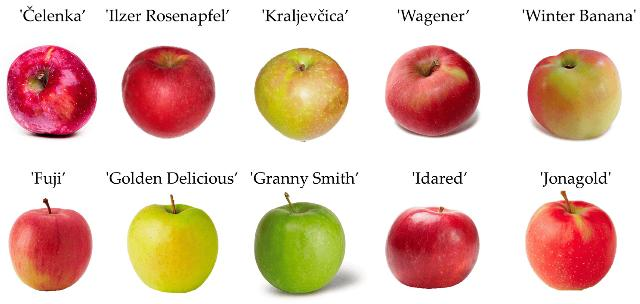green apple: (255, 194, 346, 295), (127, 196, 219, 294)
red apple: (526, 192, 618, 292), (255, 48, 349, 143), (122, 47, 216, 140), (386, 46, 481, 138), (528, 49, 622, 141), (7, 46, 97, 137), (9, 199, 93, 293), (386, 208, 480, 291)
